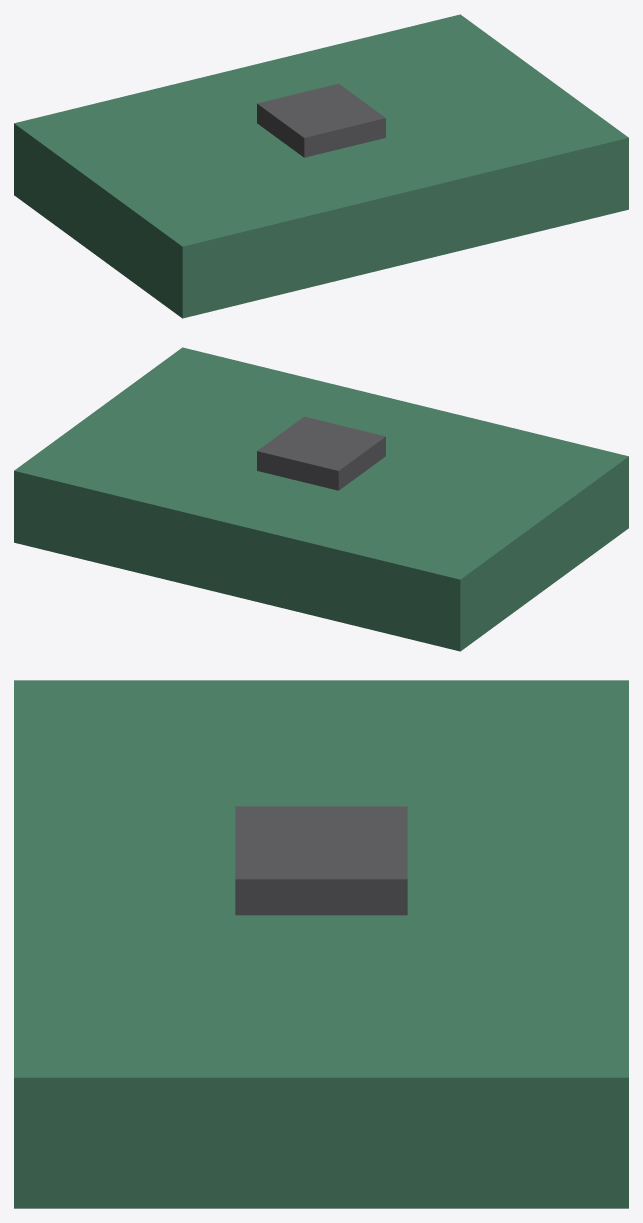
3 renders of one model, top to bottom at view 1: azimuth 30°, elevation 25°; view 2: azimuth 150°, elevation 25°; view 3: azimuth 270°, elevation 25°, orthographic. The views are drawn at different scales.
Parts seen in each view (by area): view 1: tp4056-pcb, tp4056-ic; view 2: tp4056-pcb, tp4056-ic; view 3: tp4056-pcb, tp4056-ic.
Boxes of the visible parts, <box> form: tp4056-pcb: <box>14,14,628,318</box>; tp4056-ic: <box>257,83,385,157</box>; tp4056-pcb: <box>14,347,628,651</box>; tp4056-ic: <box>257,416,385,490</box>; tp4056-pcb: <box>14,680,628,1208</box>; tp4056-ic: <box>235,806,407,915</box>.
Size of the model in its own units: 0.026 by 0.0051 by 0.017.
